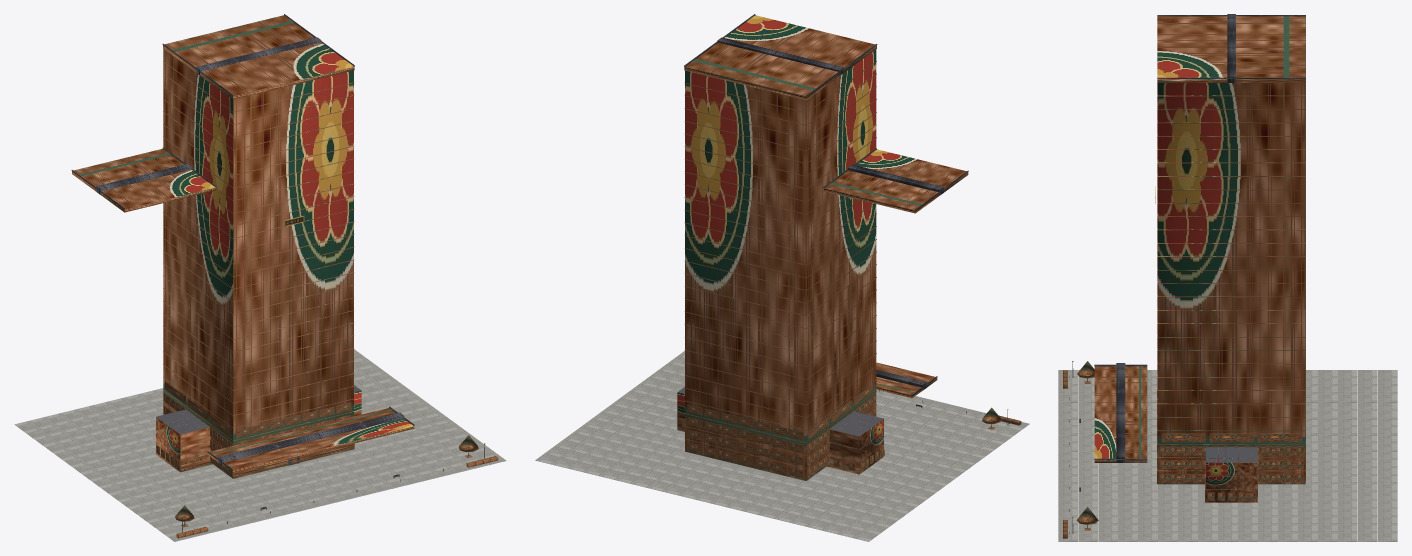
3 views of the same model, side by side, from view 1: azimuth 30°, elevation 25°; view 2: azimuth 150°, elevation 25°; view 3: azimuth 270°, elevation 25° (orthographic). The views are drawn at different scales.
Parts seen in each view (by area): view 1: 11680_01_06167_011_02__mass_body_facade, 11680_01_06167_011_01__plinth_ground_base, 11680_01_06167_011_03__roof_metal_ornament, 11680_01_06167_011_06__landscape_greenery, 11680_01_06167_011_03__roof_deck_structure; view 2: 11680_01_06167_011_02__mass_body_facade, 11680_01_06167_011_01__plinth_ground_base, 11680_01_06167_011_03__roof_metal_ornament, 11680_01_06167_011_03__roof_deck_structure; view 3: 11680_01_06167_011_02__mass_body_facade, 11680_01_06167_011_01__plinth_ground_base, 11680_01_06167_011_03__roof_metal_ornament, 11680_01_06167_011_03__roof_deck_structure, 11680_01_06167_011_06__landscape_greenery.
Part boxes in pixels (left/top/right/bottom): 11680_01_06167_011_02__mass_body_facade: left=72, top=15, right=414, bottom=478; 11680_01_06167_011_01__plinth_ground_base: left=14, top=349, right=506, bottom=541; 11680_01_06167_011_03__roof_metal_ornament: left=71, top=14, right=414, bottom=470; 11680_01_06167_011_06__landscape_greenery: left=175, top=435, right=498, bottom=538; 11680_01_06167_011_03__roof_deck_structure: left=156, top=385, right=360, bottom=434; 11680_01_06167_011_02__mass_body_facade: left=677, top=15, right=968, bottom=480; 11680_01_06167_011_01__plinth_ground_base: left=535, top=351, right=1029, bottom=541; 11680_01_06167_011_03__roof_metal_ornament: left=684, top=14, right=968, bottom=395; 11680_01_06167_011_03__roof_deck_structure: left=678, top=387, right=883, bottom=436; 11680_01_06167_011_02__mass_body_facade: left=1094, top=16, right=1305, bottom=502; 11680_01_06167_011_01__plinth_ground_base: left=1058, top=370, right=1397, bottom=541; 11680_01_06167_011_03__roof_metal_ornament: left=1094, top=14, right=1305, bottom=462; 11680_01_06167_011_03__roof_deck_structure: left=1206, top=447, right=1257, bottom=462; 11680_01_06167_011_06__landscape_greenery: left=1063, top=361, right=1098, bottom=538.
Bounding box in the file's own units: 110 × 123 × 91.95.
7 materials, 7 textured.
